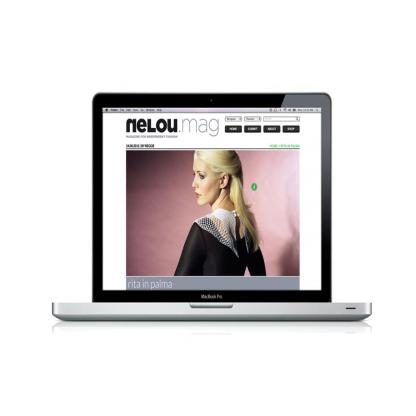board: (52, 91, 373, 321)
